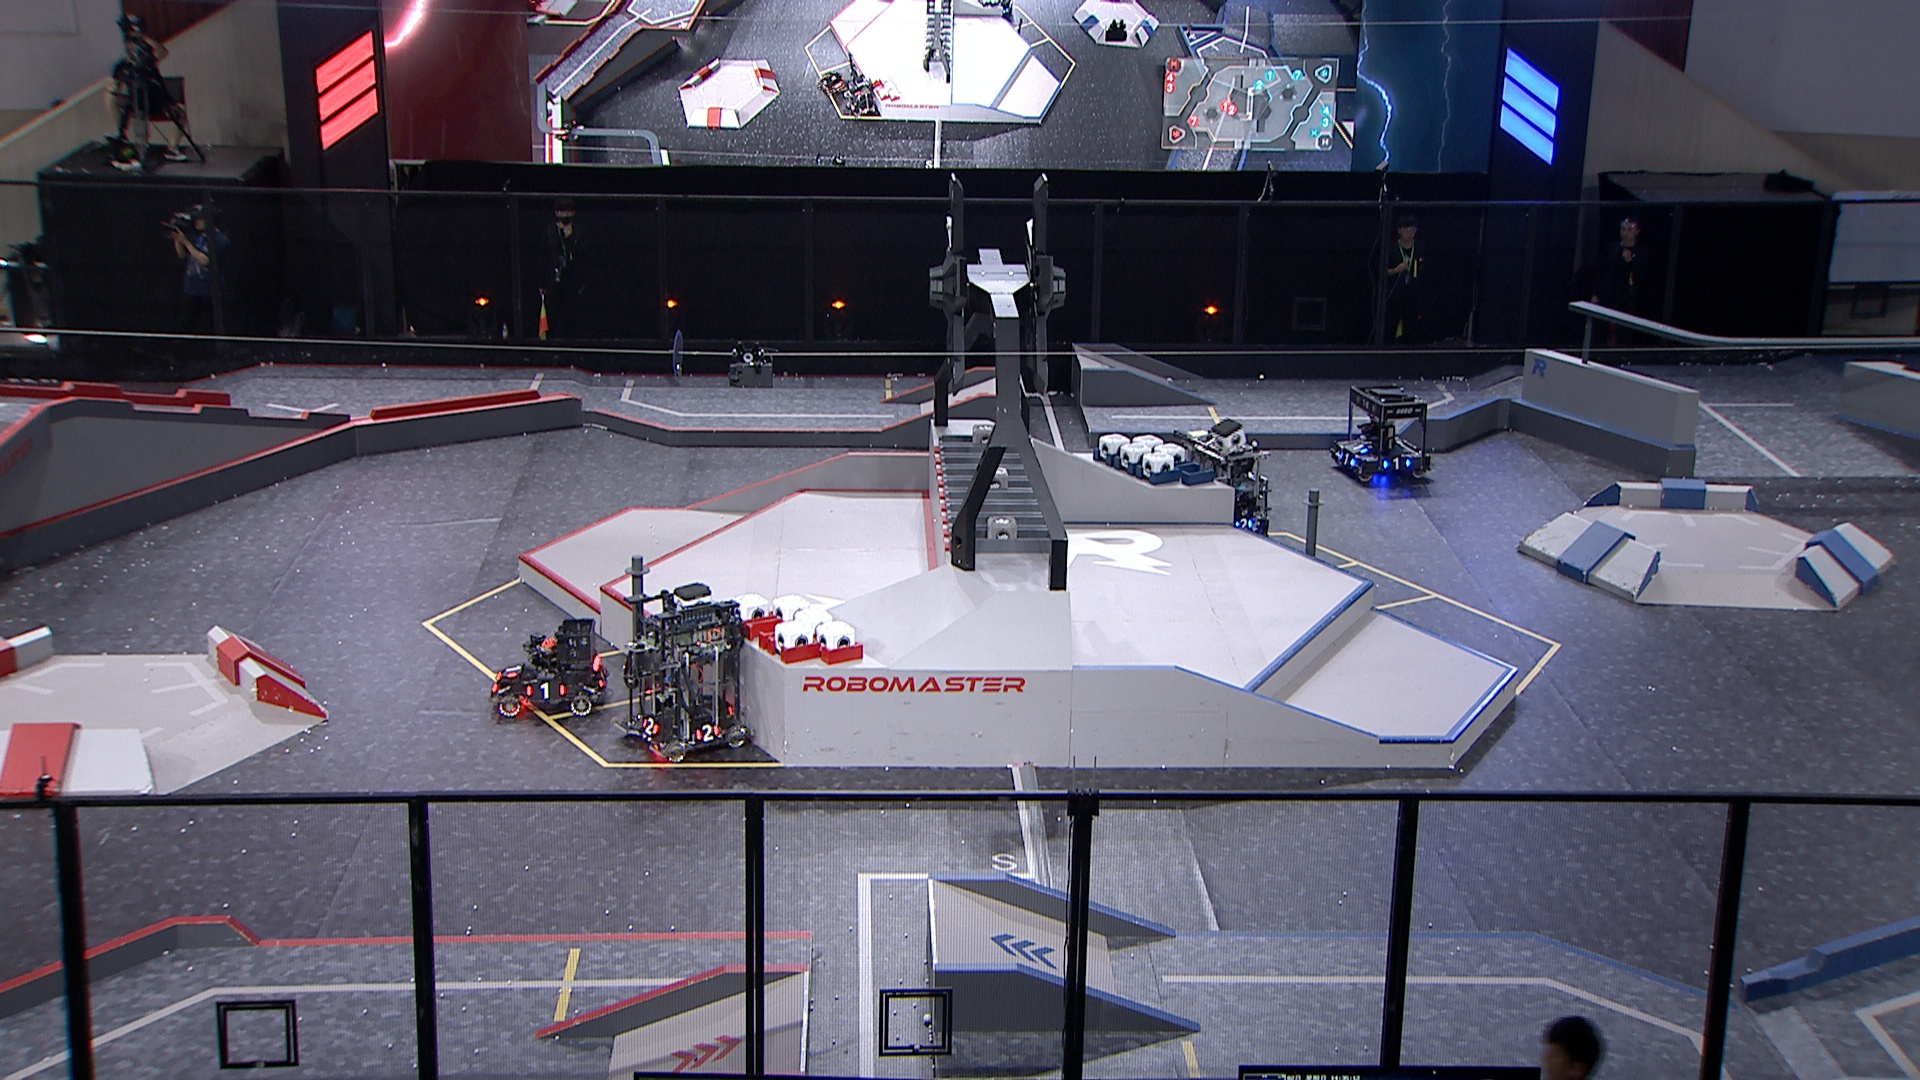armor: (524, 680, 568, 703), (694, 723, 721, 744), (1382, 458, 1414, 473), (642, 717, 661, 740), (502, 662, 524, 680), (1337, 451, 1358, 469), (1349, 442, 1371, 458), (1234, 518, 1254, 533), (596, 669, 608, 688)
car: (613, 591, 754, 767), (491, 618, 611, 717), (1325, 382, 1433, 487), (1182, 438, 1273, 543)
ignore: (845, 76, 880, 119), (553, 121, 585, 146), (818, 71, 847, 95), (997, 1, 1015, 22)
